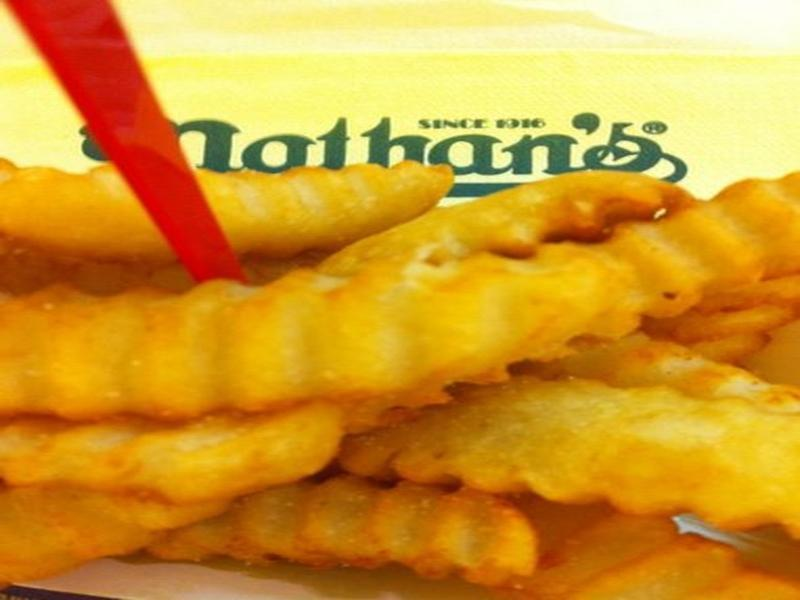french_fries: (35, 55, 797, 600)
